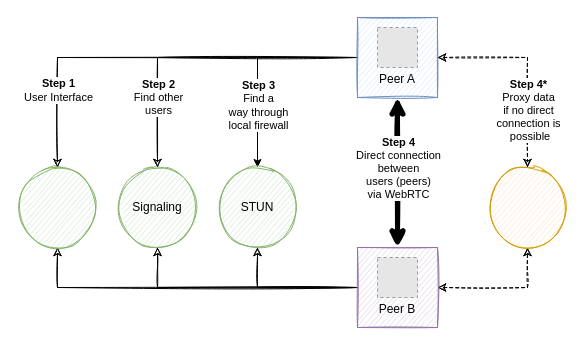
This 585x345 diagram has some shape labels left out. Grey dashed boxes stand in for pictures. Each missing label, with the centre of its shape:
"TURN" goes at point 527,207.
"Website" goes at point 57,207.
